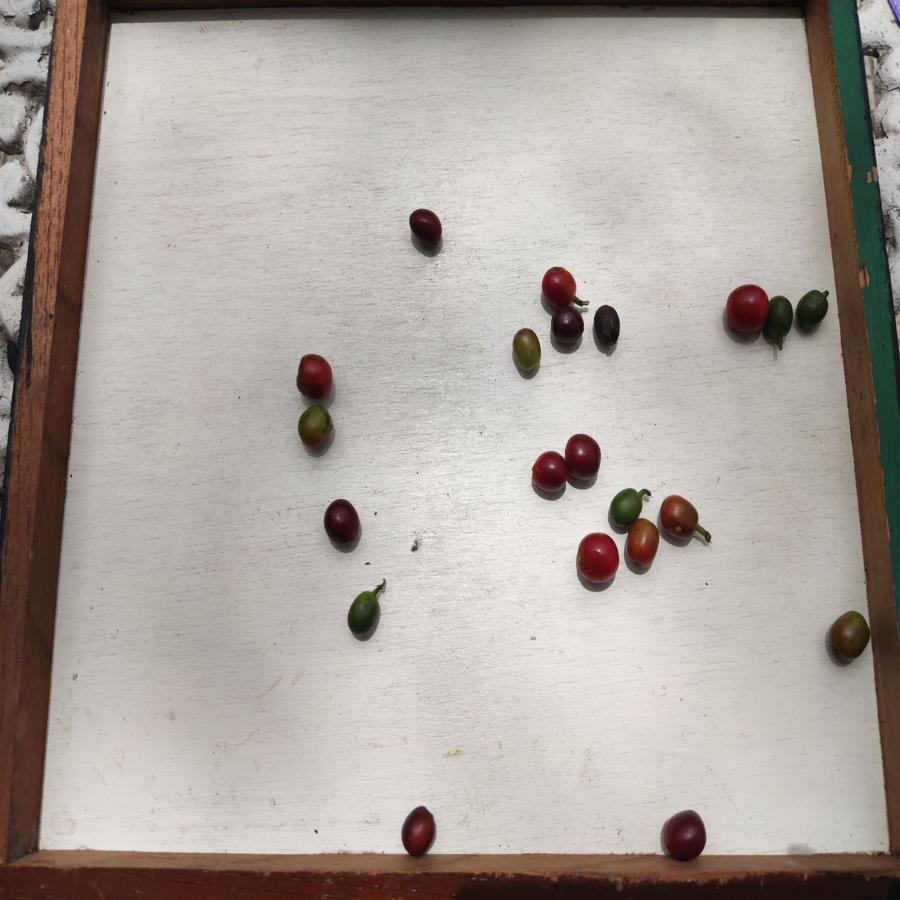Inmaduro: (346, 591, 382, 638), (796, 290, 827, 334), (767, 294, 794, 341), (610, 489, 645, 525)
Maduro: (576, 533, 620, 586), (724, 282, 767, 335), (295, 352, 334, 397), (530, 451, 568, 497), (540, 267, 578, 306)
Pinton: (828, 610, 870, 666), (659, 494, 702, 542), (296, 404, 334, 452), (625, 518, 660, 570), (511, 327, 543, 376)
Sobremaduro: (661, 810, 706, 861), (320, 498, 364, 547), (399, 806, 438, 857), (566, 432, 603, 483), (406, 208, 443, 249), (594, 304, 626, 348), (552, 306, 585, 347)
